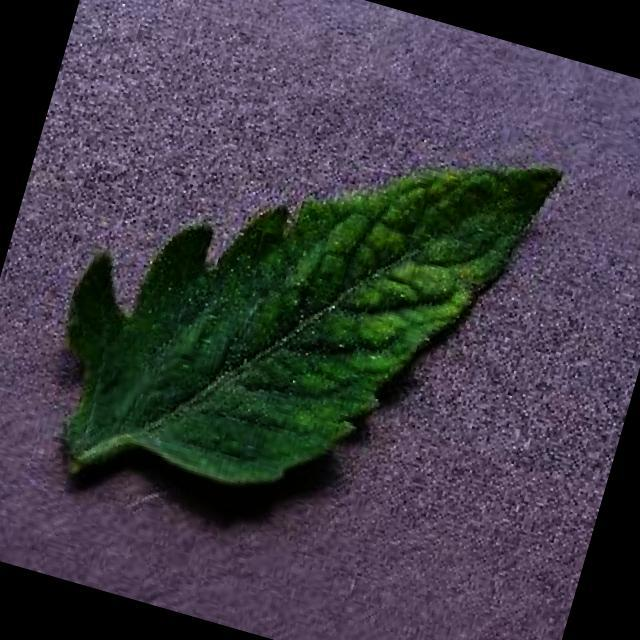Tomato mosaic virus leaf: (26, 39, 566, 552)
